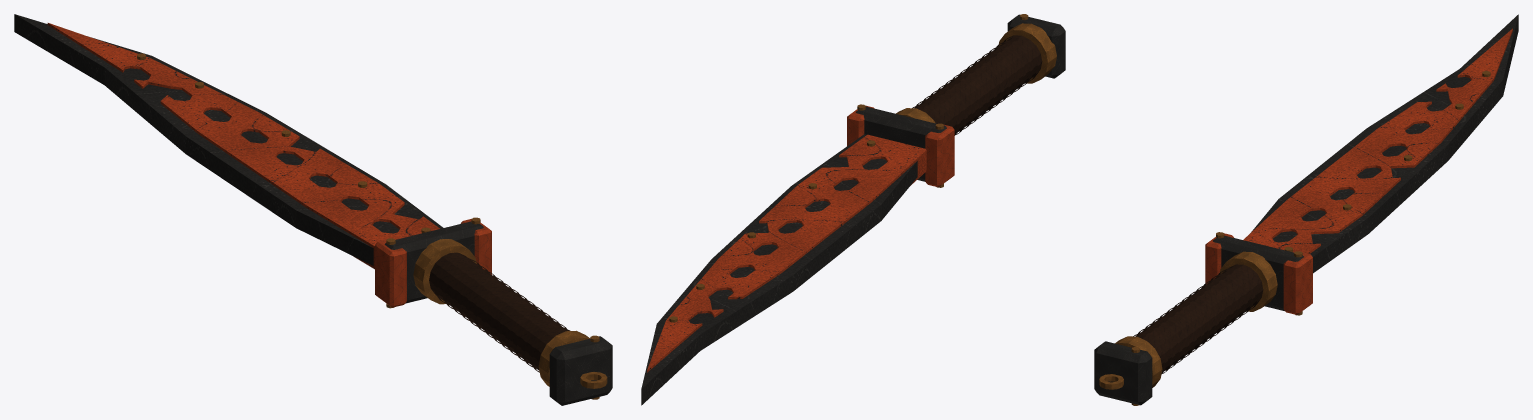
The model's file is kiln-sword-damaged.glb.
The picture shows the model from 3 angles, left to right: view 1: azimuth 30°, elevation 25°; view 2: azimuth 150°, elevation 25°; view 3: azimuth 330°, elevation 25°; orthographic projection. The views are drawn at different scales.
Visible parts, largest first — view 1: Vented fired ceramic blade jacket, Forged wedge blade, Grip core, Pommel iron cap, Guard iron block, Ceramic guard cheek, Brass grip ferrule.001, Brass grip ferrule, Ceramic guard cheek.001; view 2: Vented fired ceramic blade jacket, Forged wedge blade, Grip core, Guard iron block, Ceramic guard cheek, Brass grip ferrule, Pommel iron cap, Ceramic guard cheek.001; view 3: Vented fired ceramic blade jacket, Forged wedge blade, Grip core, Pommel iron cap, Guard iron block, Ceramic guard cheek.001, Brass grip ferrule.001, Brass grip ferrule, Ceramic guard cheek.
Part boxes in pixels (x1,y1,x2,y2): Vented fired ceramic blade jacket: (47, 23, 439, 269); Forged wedge blade: (14, 14, 443, 265); Grip core: (429, 252, 567, 370); Pommel iron cap: (549, 336, 612, 405); Guard iron block: (384, 221, 483, 303); Ceramic guard cheek: (375, 239, 406, 307); Brass grip ferrule.001: (413, 239, 476, 304); Brass grip ferrule: (538, 330, 589, 386); Ceramic guard cheek.001: (460, 219, 491, 274); Vented fired ceramic blade jacket: (647, 134, 926, 372); Forged wedge blade: (641, 134, 917, 405); Grip core: (914, 37, 1042, 133); Guard iron block: (856, 106, 946, 181); Ceramic guard cheek: (925, 124, 954, 187); Brass grip ferrule: (998, 23, 1056, 83); Pommel iron cap: (1007, 14, 1065, 78); Ceramic guard cheek.001: (847, 105, 874, 145); Vented fired ceramic blade jacket: (1243, 28, 1512, 253); Forged wedge blade: (1251, 14, 1518, 273); Grip core: (1135, 264, 1263, 371); Pommel iron cap: (1094, 341, 1152, 405); Guard iron block: (1213, 235, 1303, 310); Ceramic guard cheek.001: (1283, 252, 1312, 314); Brass grip ferrule.001: (1219, 251, 1277, 311); Brass grip ferrule: (1115, 336, 1162, 387); Ceramic guard cheek: (1205, 233, 1233, 284).
Bounding box in the file's own units: 0.1745 × 0.092 × 1.31.
Materials: 4 (4 with a texture image).
